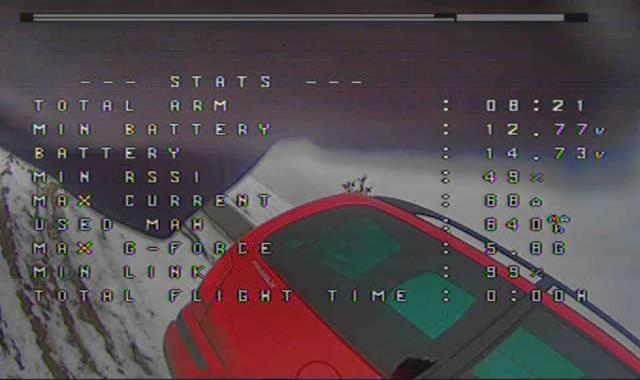car: (160, 184, 640, 380)
